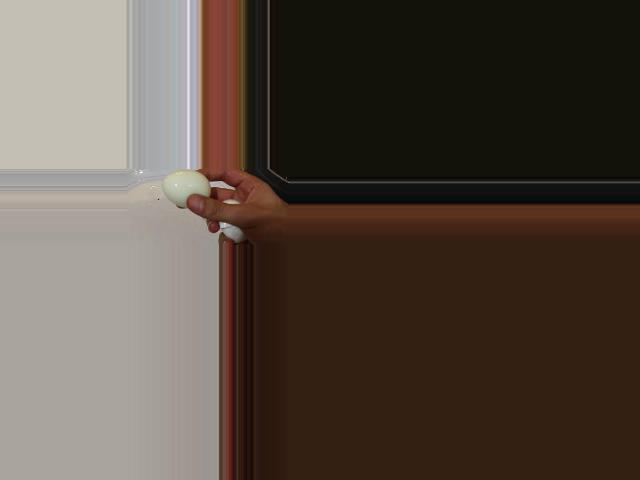egg: (163, 169, 210, 208)
